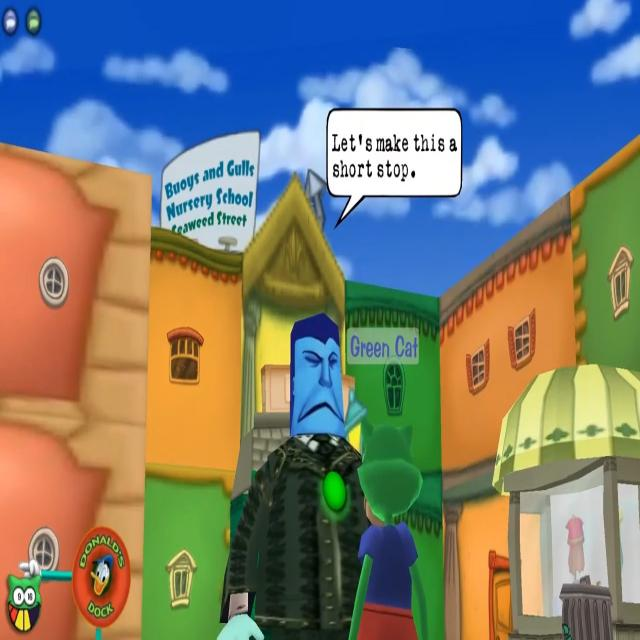shortchange: (220, 113, 462, 640)
